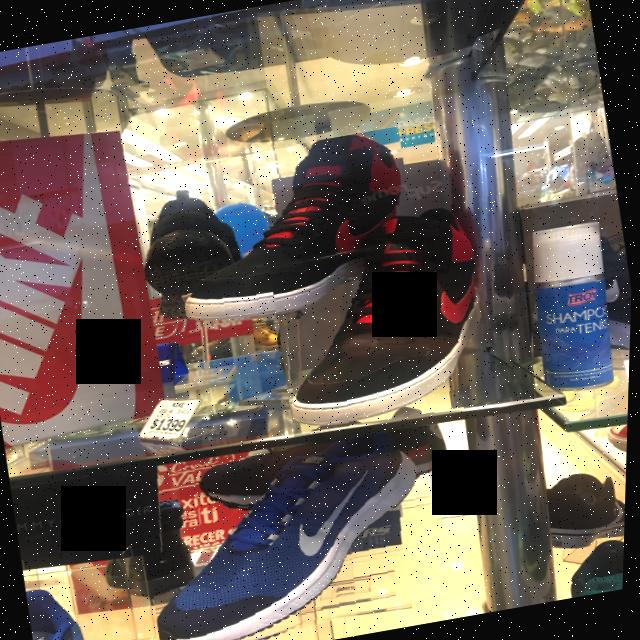shoe: (135, 424, 466, 640), (260, 187, 536, 437), (142, 126, 428, 334)
